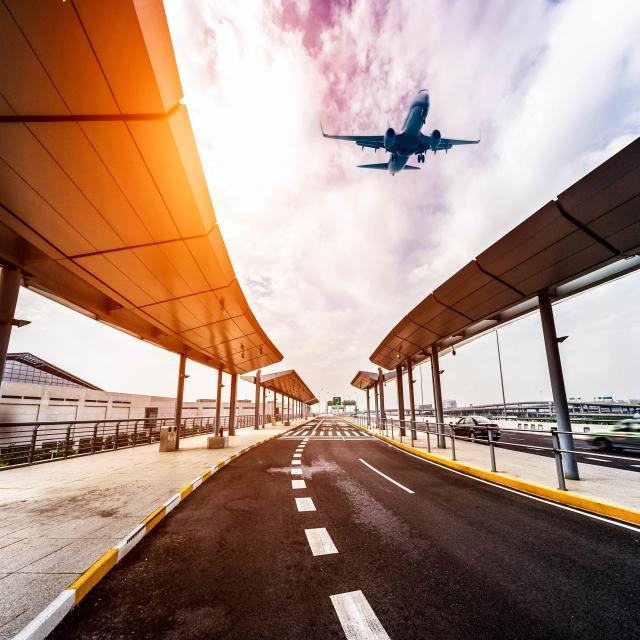plain: (314, 83, 486, 185)
